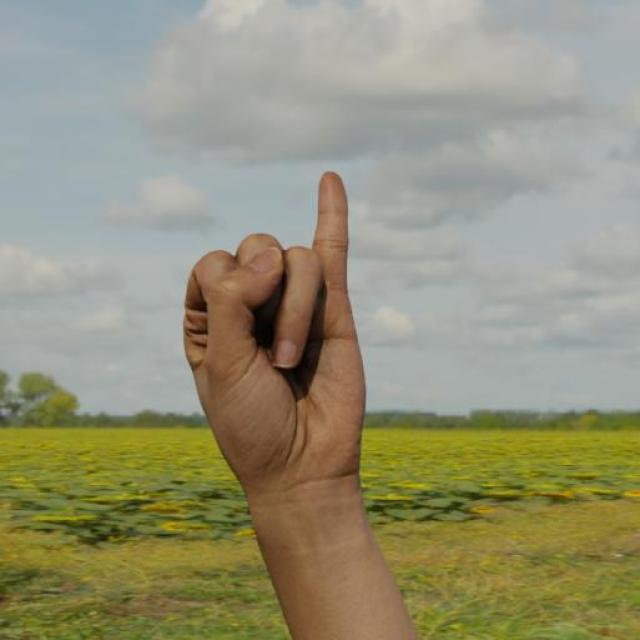I: (165, 168, 372, 538)
